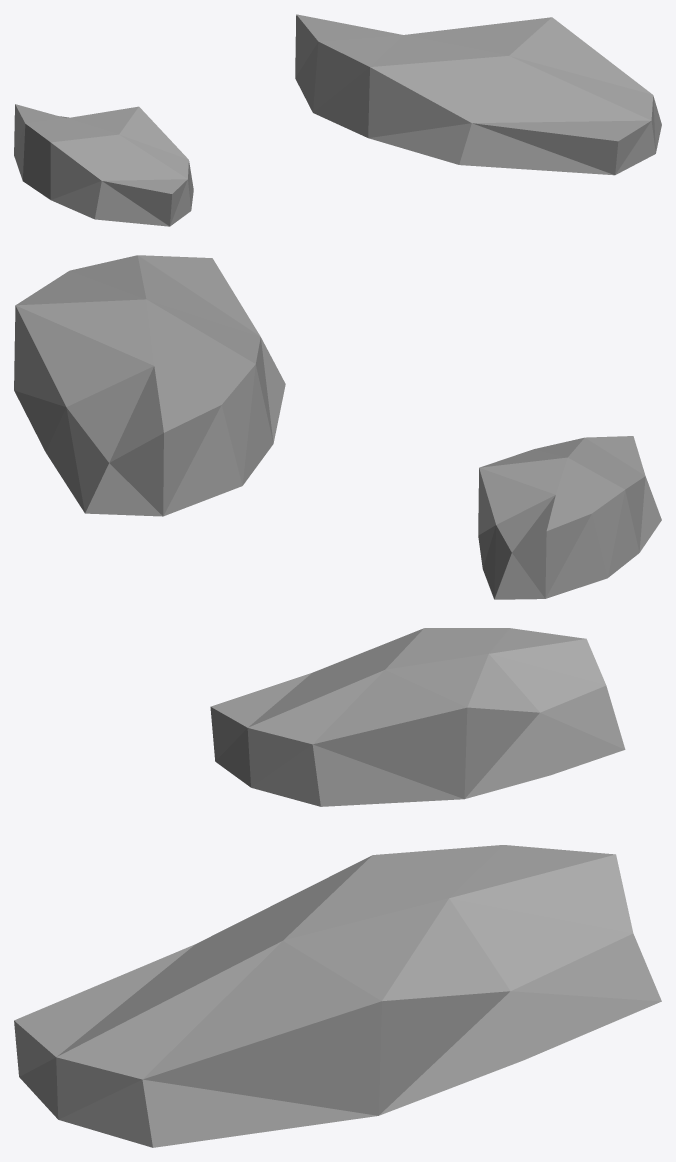
File: Isl_12_Rocks_3.fbx
The picture shows the model from 3 angles, top to bottom: view 1: azimuth 30°, elevation 25°; view 2: azimuth 150°, elevation 25°; view 3: azimuth 270°, elevation 25°; orthographic projection. The views are drawn at different scales.
Parts seen in each view (by area): view 1: Isl_12_Rocks_3; view 2: Isl_12_Rocks_3; view 3: Isl_12_Rocks_3.
Boxes of the visible parts, x1,y1,x2,y2 form: Isl_12_Rocks_3: (14, 14, 661, 226); Isl_12_Rocks_3: (14, 255, 661, 599); Isl_12_Rocks_3: (14, 628, 661, 1147).
Size of the model in its own units: 127 by 79.03 by 15.37.
1 material, 1 textured.
